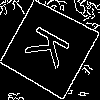K: (24, 24, 80, 76)
